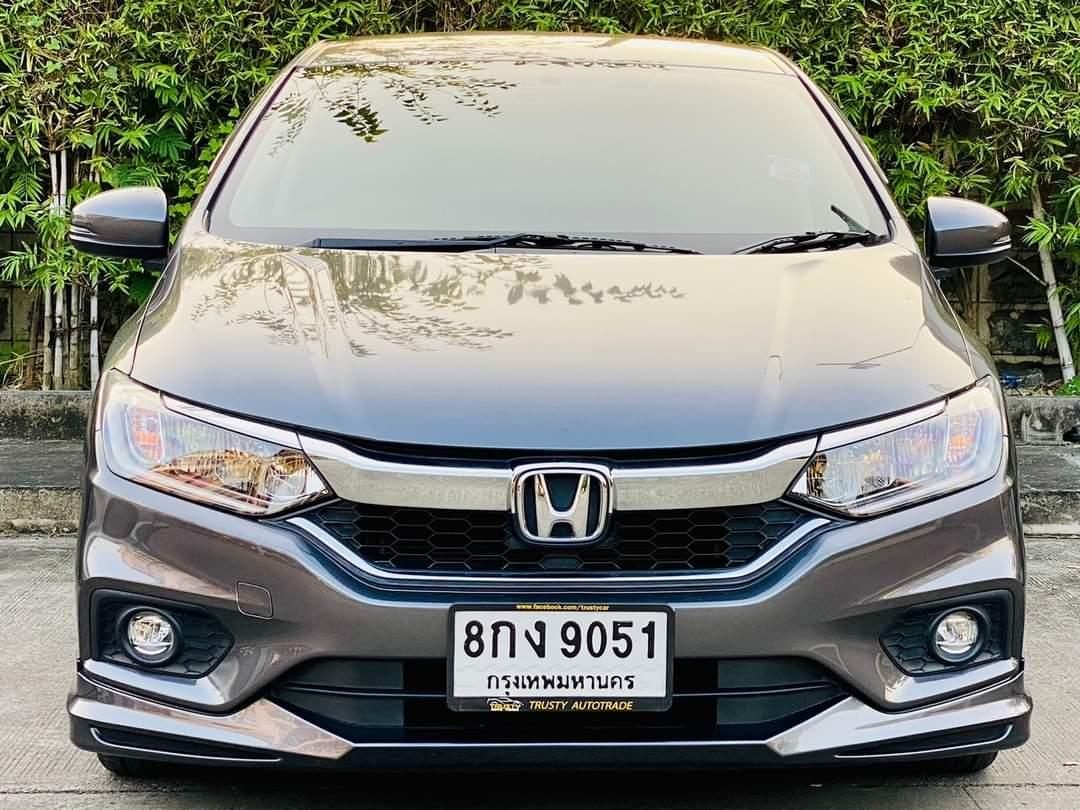license-plate: (446, 597, 677, 716)
